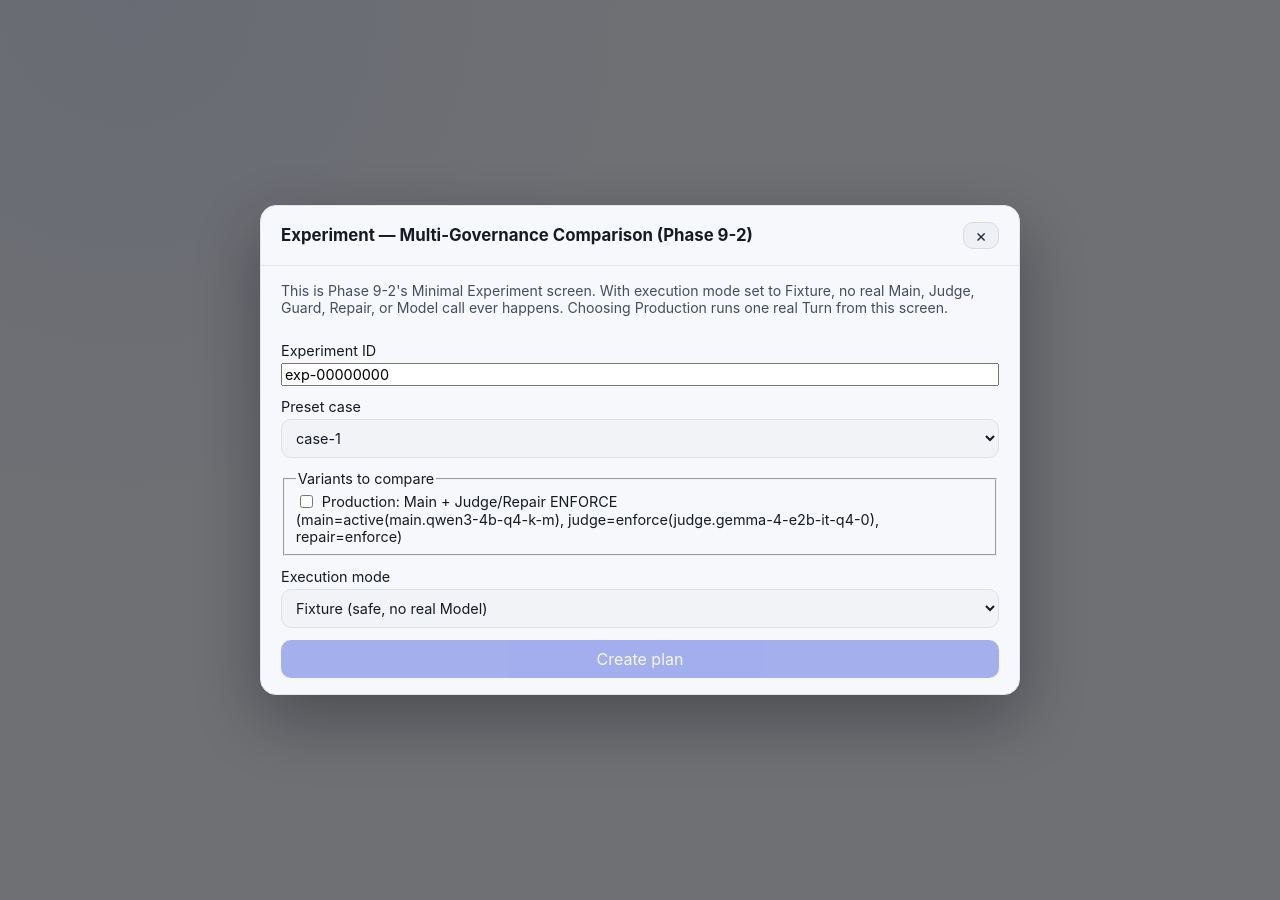
Test: ExperimentPanel › a wrong Production live configuration surfaces the typed rejection and creates no row
Check: the text "Production: Main + Judge/Repair ENFORCE" is shown, box [300,493,617,510]
Click the checkbox labelled "Production: Main + Judge/Repair ENFORCE". click: [306, 502]
box: [300,495,313,508]
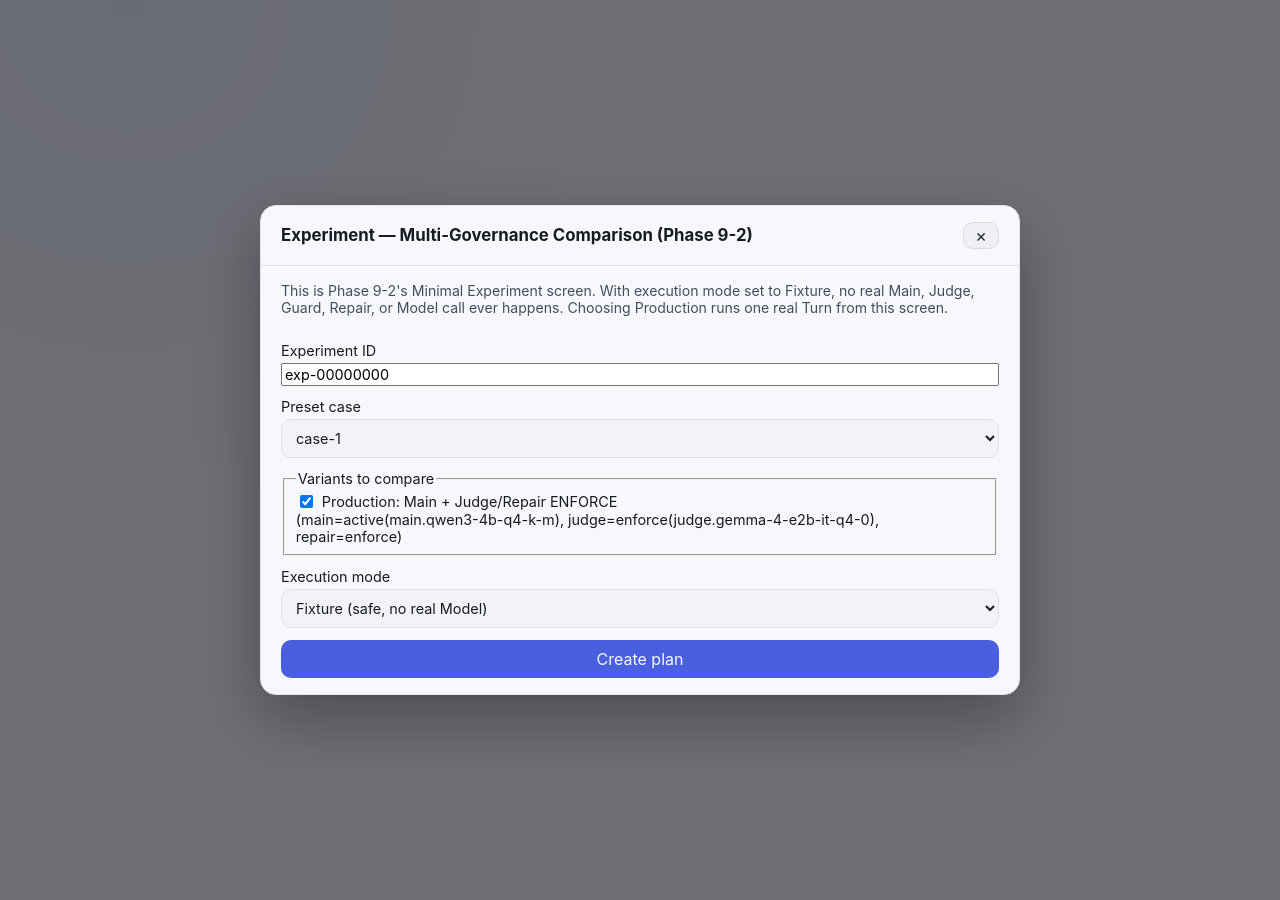
Select "Production (runs one real Turn)" in the dropdown labelled "Execution mode". click: [640, 609]
box: [281,589,999,628]
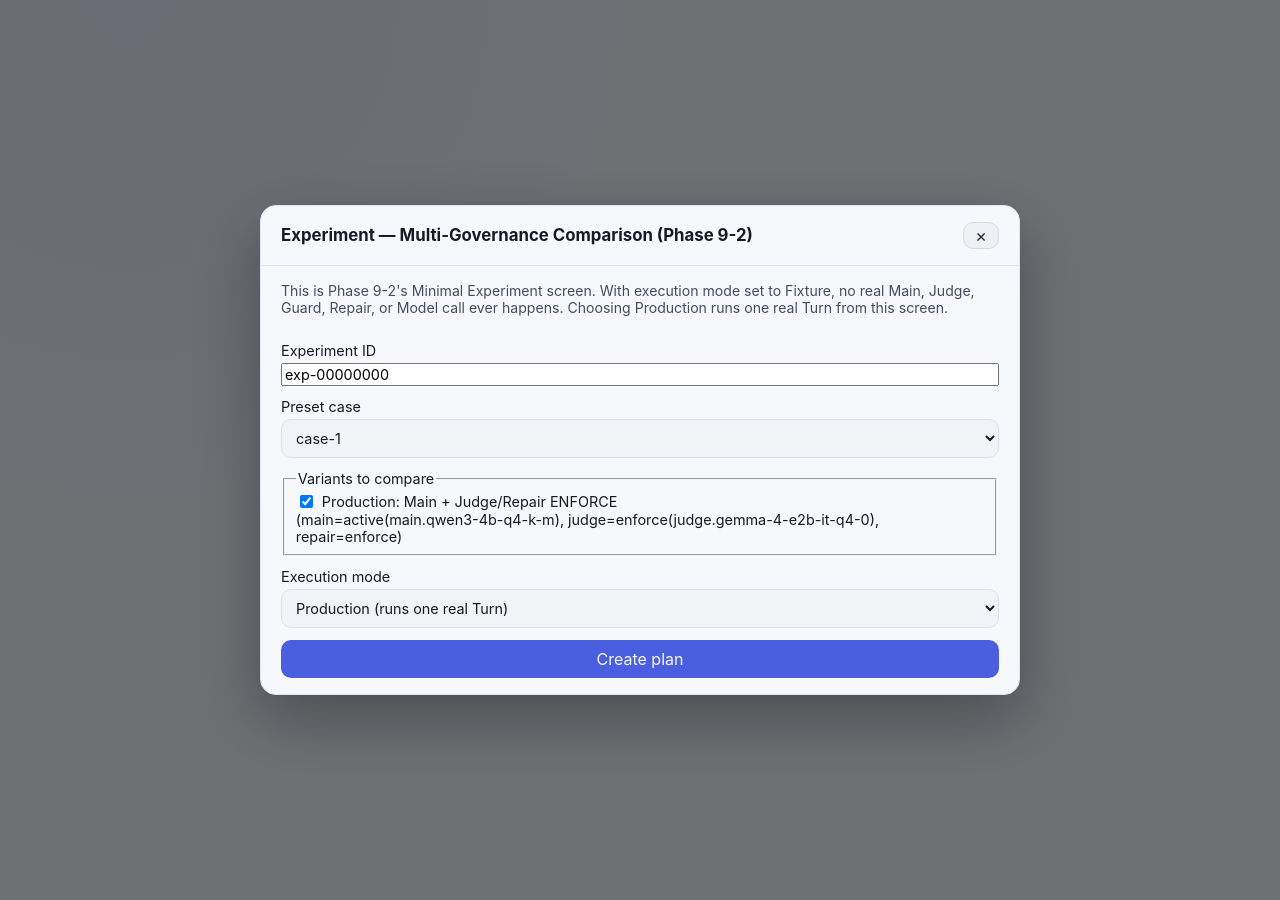
Click the button "Create plan". click: [640, 659]
box: [281,640,999,678]
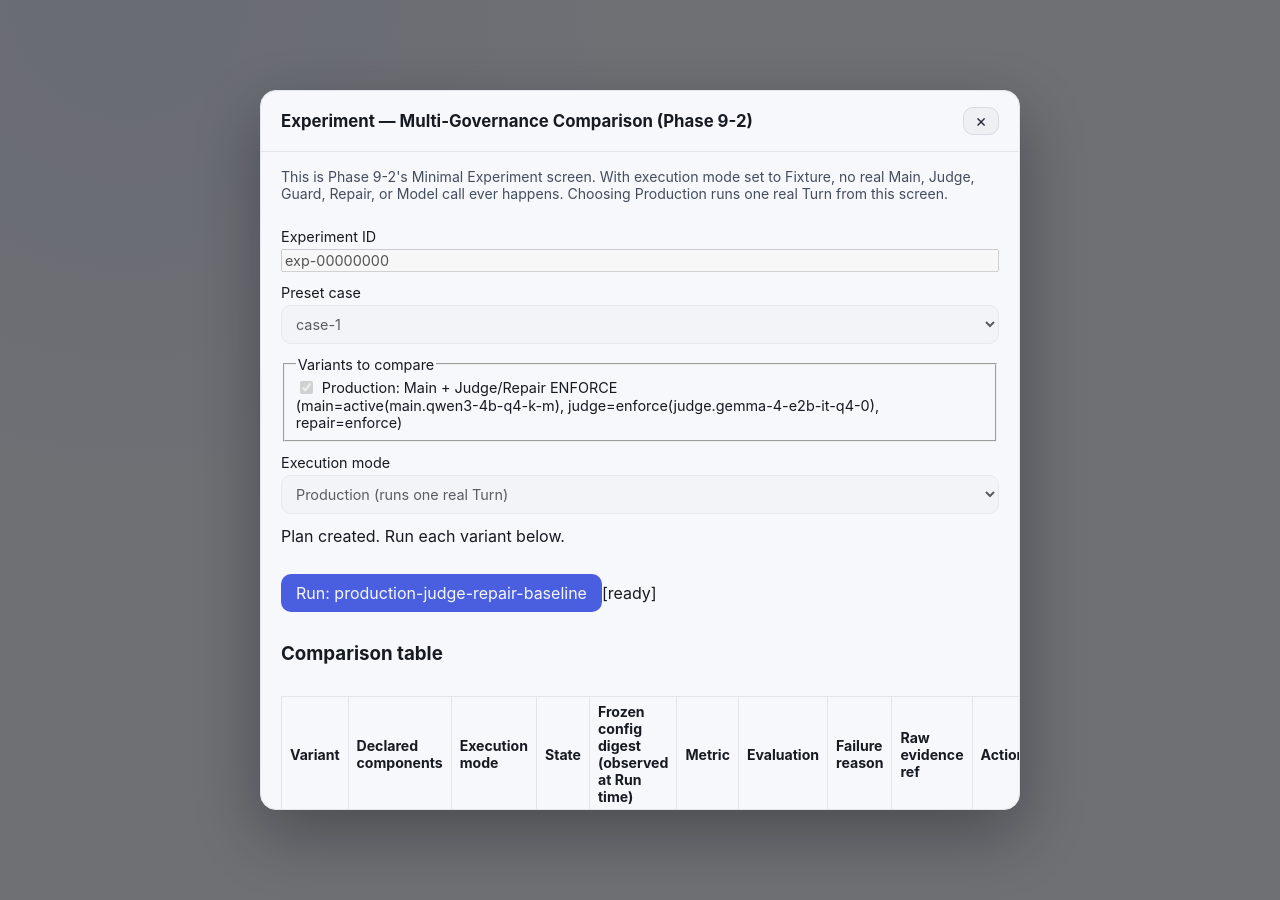
Check: the text "Plan created. Run each variant below." is shown, box [281,526,565,546]
Click the button "Run: production-judge-repair-baseline". click: [441, 593]
box: [281,574,602,612]
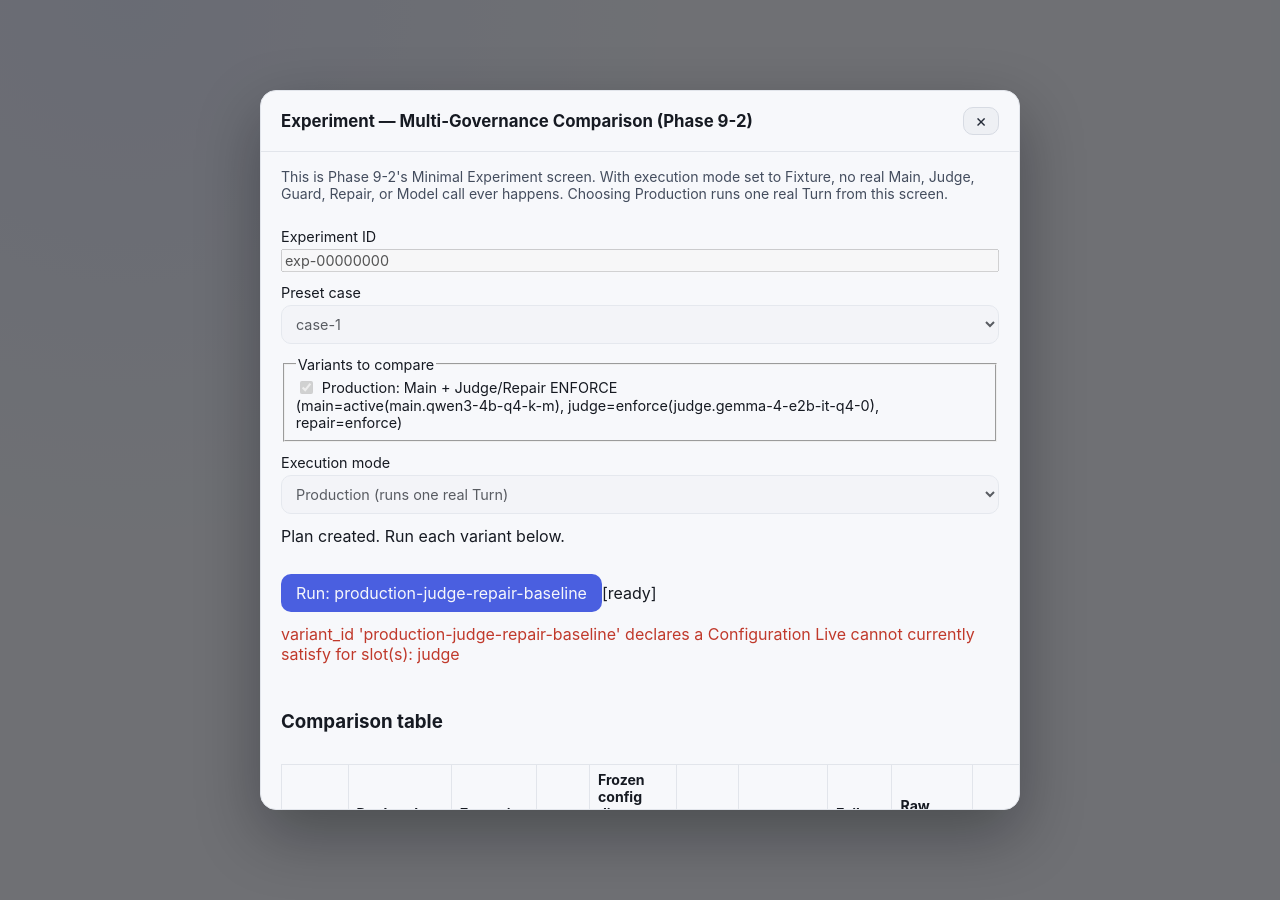
Check: the text "variant_id 'production-judge-repair-baseline' declares a Configuration Live cannot currently satisfy for slot(s): judge" is shown, box [281,624,975,664]
